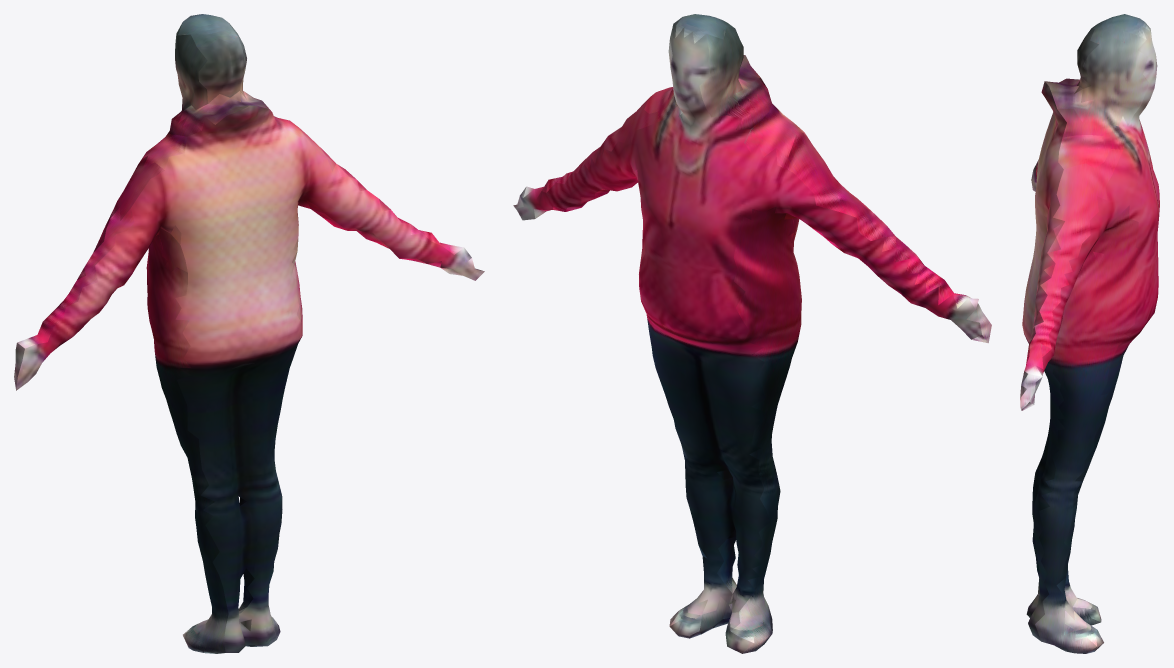
3 views of the same model, side by side, from view 1: azimuth 30°, elevation 25°; view 2: azimuth 150°, elevation 25°; view 3: azimuth 270°, elevation 25° (orthographic). The views are drawn at different scales.
Parts seen in each view (by area): view 1: world; view 2: world; view 3: world.
Boxes of the visible parts, <box> form: world: <box>14,14,484,653</box>; world: <box>513,14,991,653</box>; world: <box>1020,14,1159,653</box>.
Size of the model in its own units: 0.8006 by 1.01 by 0.2075.
Materials: 1 (1 with a texture image).
